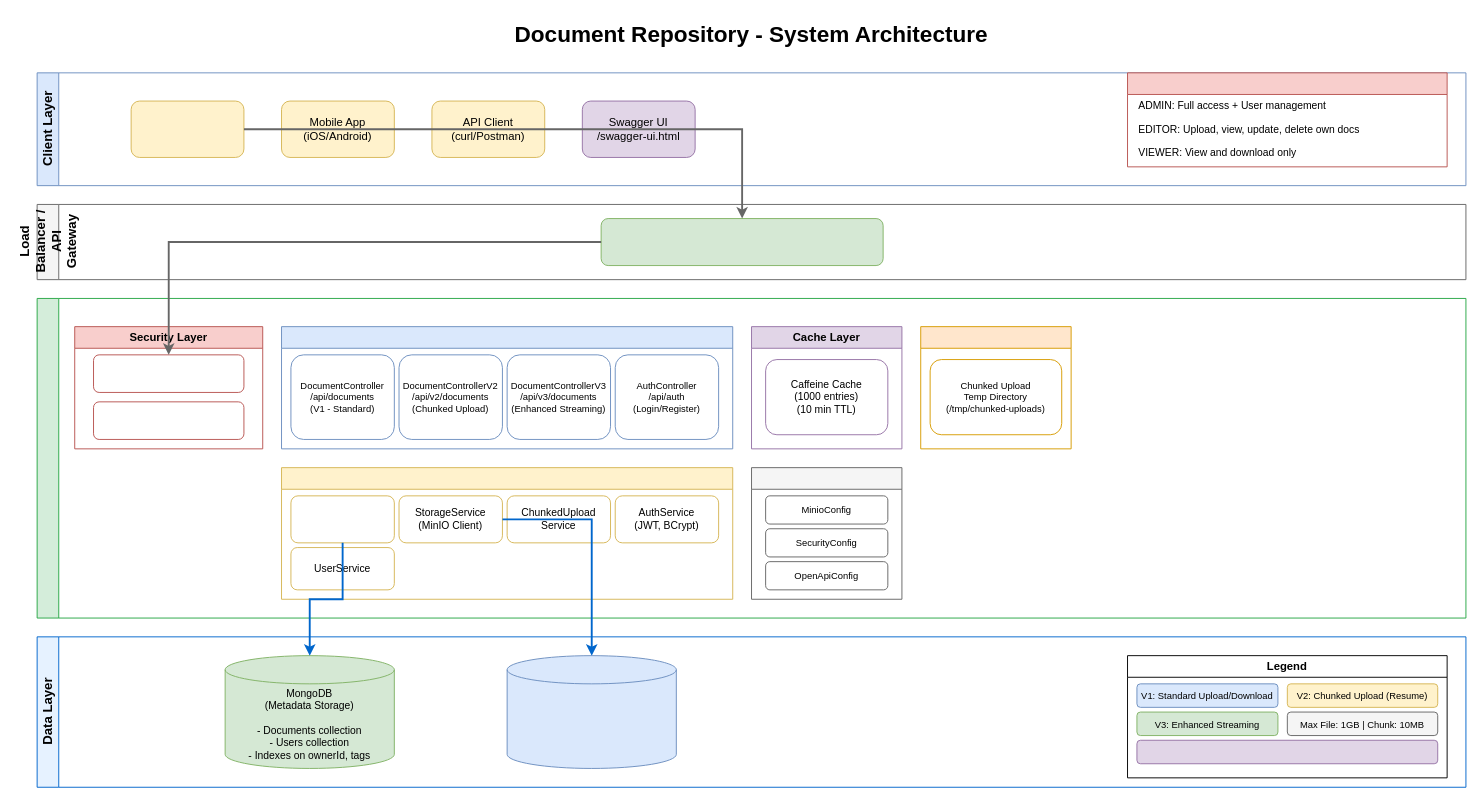
Image size: 1482x804. Some labels were removed from this diagram. Each missing label, with the box of its shape:
Configuration: (751, 467, 902, 599)
DocumentService (CRUD, Search): (290, 495, 394, 543)
JWT Authentication Filter: (93, 354, 244, 392)
MinIO / S3 (Object Storage) - documents bucket - Streaming I/O - Presigned URLs: (506, 655, 676, 768)
NGINX / AWS ALB (SSL Termination, Rate Limiting): (600, 218, 883, 266)
RBAC Roles: (1127, 72, 1447, 167)
REST Controllers: (281, 326, 733, 449)
SecurityConfig (RBAC): (93, 401, 244, 439)
Service Layer: (281, 467, 733, 599)
Spring Boot Application (Port 8080): (36, 298, 1466, 618)
Temp Storage: (920, 326, 1071, 449)
Tomcat: 500 threads | Cache: 1000 entries: (1136, 739, 1438, 764)
Web Browser (React/Angular): (130, 100, 244, 157)
